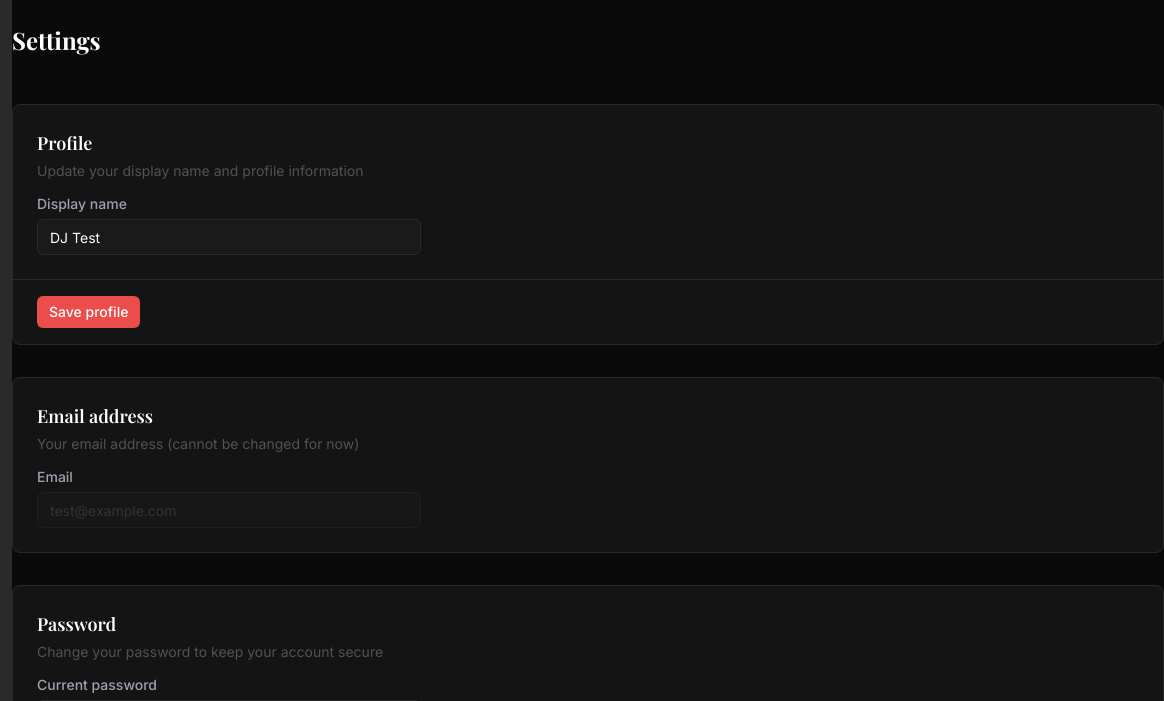
Test: SettingsPage › profile update › disables save button when display name is empty
Clear the field labelled "Display name" at (229, 237), box top-left (37, 219), bottom-right (421, 255)
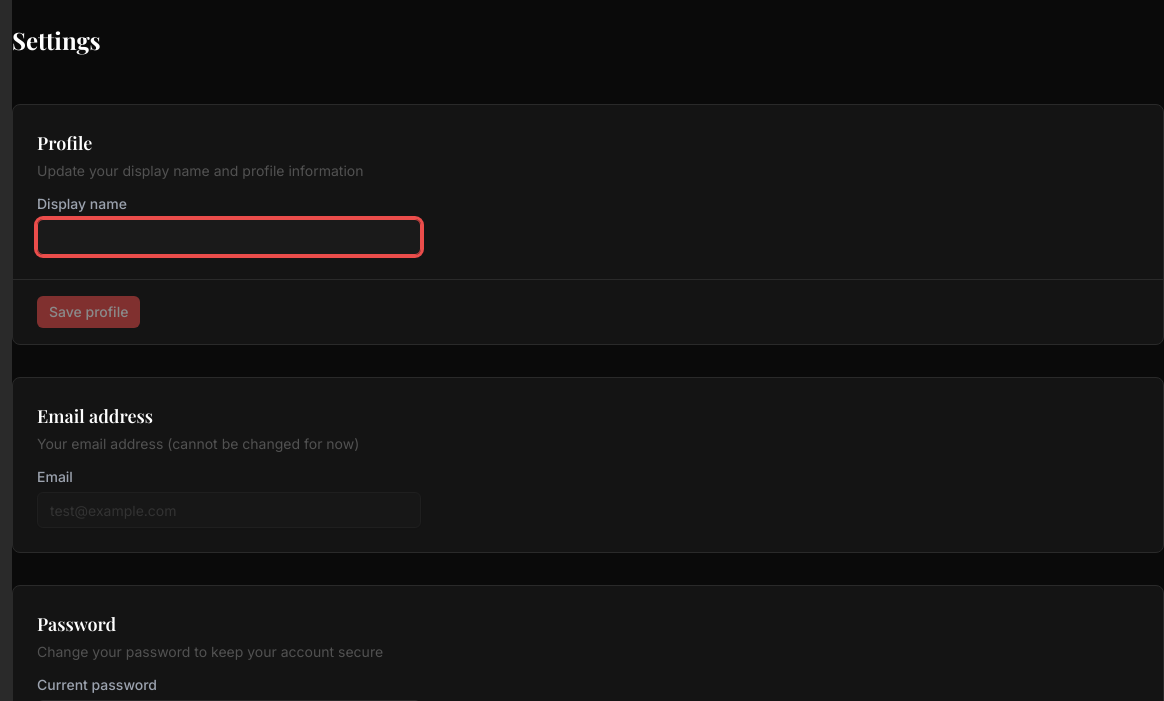
Check: the button "Save profile" is disabled, box top-left (37, 296), bottom-right (140, 328)
